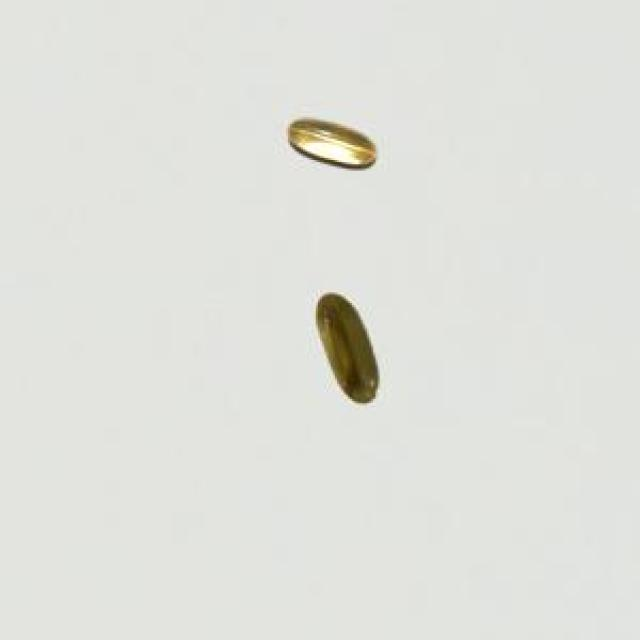Fish_Oil: (307, 277, 395, 416), (279, 94, 388, 186)
